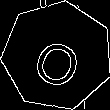O_N: (27, 24, 87, 88)
